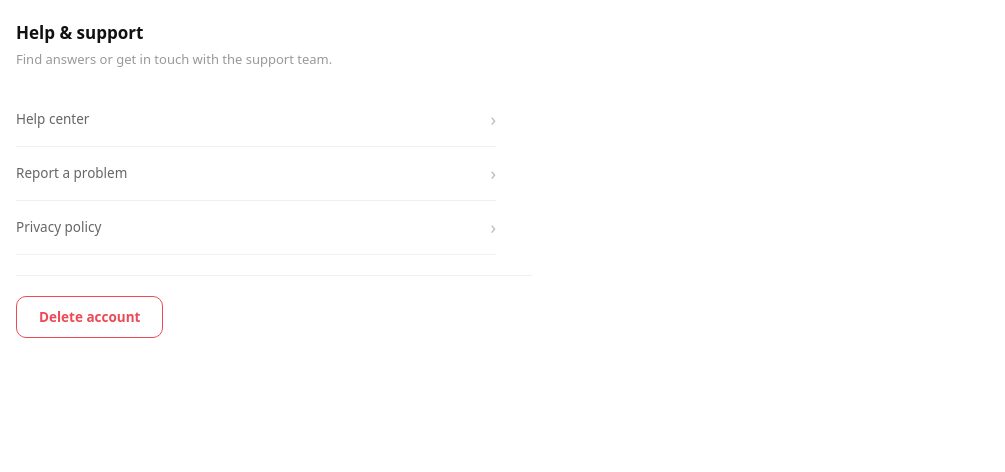
Test case: HelpSection › requires a password before sending the delete request
This screenshot has width=1005, height=472.
Step 1. Click the button "Delete account" → (90, 317), box 16,296 -> 163,338
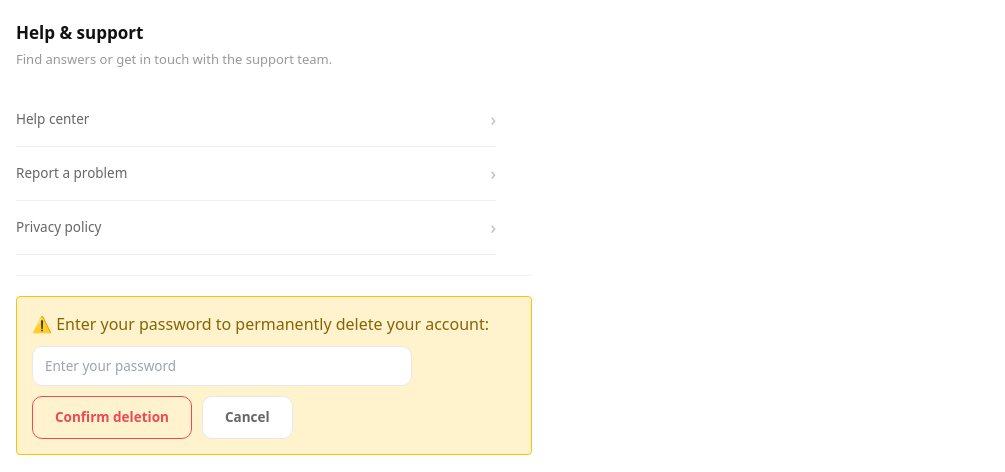
Step 2. Click the button "Confirm deletion" → (112, 417), box 32,396 -> 192,439
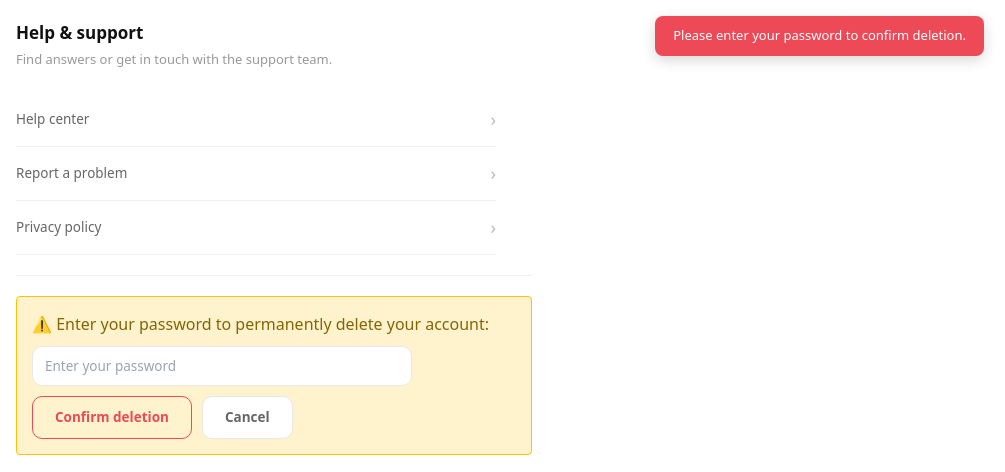
Expected: the text "Please enter your password to confirm deletion." is shown, 655,16 -> 984,56
